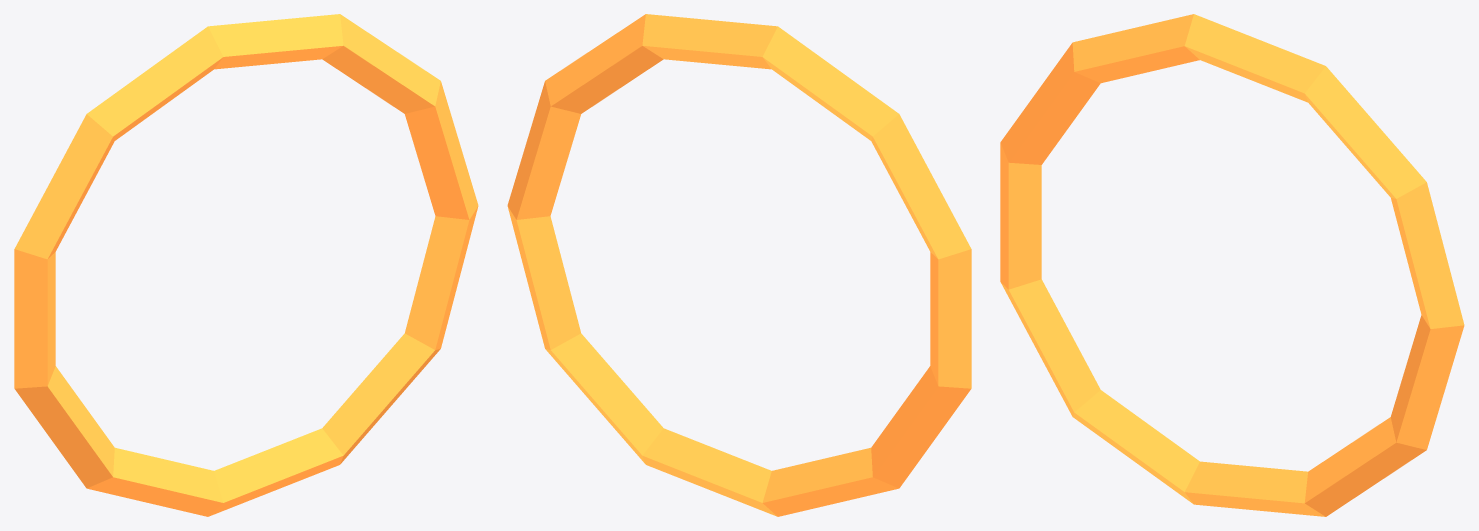
Rendered from ring.glb.
3 views of the same model, side by side, from view 1: azimuth 30°, elevation 25°; view 2: azimuth 150°, elevation 25°; view 3: azimuth 330°, elevation 25° (orthographic).
Parts seen in each view (by area): view 1: ring1; view 2: ring1; view 3: ring1.
Part boxes in pixels (x1,y1,x2,y2): ring1: (14,14,478,516); ring1: (507,14,971,516); ring1: (1000,14,1464,516).
Size of the model in its own units: 6.47 by 6.53 by 0.6.
